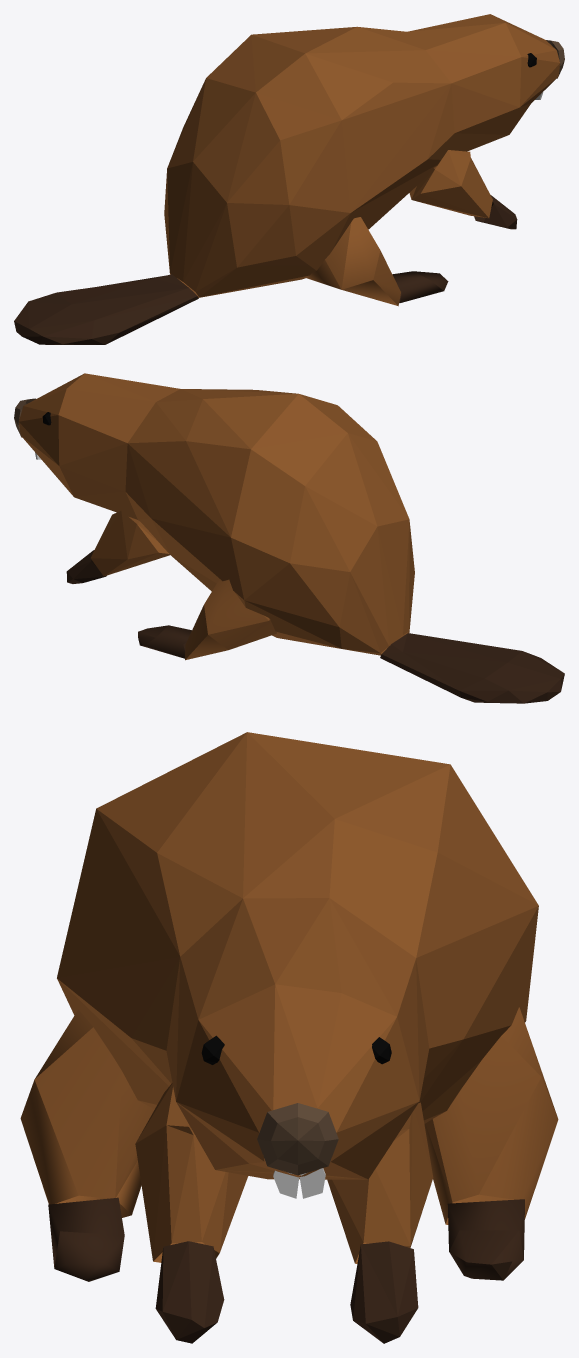
File: beaver.fbx
The picture shows the model from 3 angles, top to bottom: view 1: azimuth 30°, elevation 25°; view 2: azimuth 150°, elevation 25°; view 3: azimuth 270°, elevation 25°; orthographic projection. The views are drawn at different scales.
Visible parts, largest first — view 1: body, lapkihvost; view 2: body, lapkihvost; view 3: body, lapkihvost, nosik, zubki, eyes.
Boxes of the visible parts, left/top/right/bottom form: body: left=164, top=14, right=559, bottom=306; lapkihvost: left=14, top=195, right=517, bottom=344; body: left=19, top=373, right=414, bottom=660; lapkihvost: left=66, top=550, right=564, bottom=703; body: left=20, top=732, right=558, bottom=1263; lapkihvost: left=48, top=1197, right=524, bottom=1343; nosik: left=257, top=1103, right=338, bottom=1175; zubki: left=273, top=1168, right=325, bottom=1198; eyes: left=201, top=1035, right=391, bottom=1064.
Size of the model in its own units: 978 by 408 by 421.
